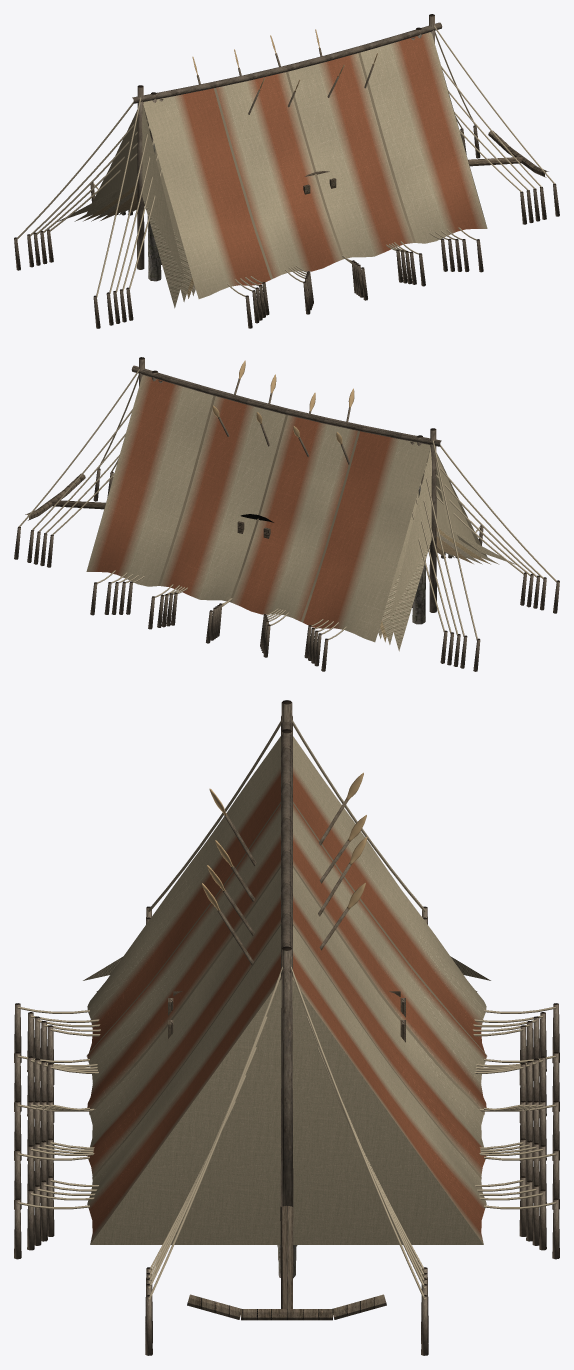
The model's file is camp_kit.glb.
3 renders of one model, top to bottom at view 1: azimuth 30°, elevation 25°; view 2: azimuth 150°, elevation 25°; view 3: azimuth 270°, elevation 25°, orthographic. The views are drawn at different scales.
Parts seen in each view (by area): view 1: tent_stripe, tent, tent_ochre, tent_grey, tent_hide, cart, palisade, spear_rack; view 2: tent_stripe, tent, tent_ochre, tent_grey, tent_hide, cart, spear_rack, palisade; view 3: tent_stripe, tent, tent_ochre, tent_grey, tent_hide, cart, spear_rack.
Boxes of the visible parts, bbox=[...] form: tent_stripe: bbox=[14, 14, 559, 328]; tent: bbox=[27, 27, 546, 325]; tent_ochre: bbox=[33, 37, 540, 323]; tent_grey: bbox=[40, 111, 533, 322]; tent_hide: bbox=[47, 130, 526, 320]; cart: bbox=[303, 130, 548, 194]; palisade: bbox=[147, 143, 161, 281]; spear_rack: bbox=[192, 29, 377, 114]; tent_stripe: bbox=[14, 357, 559, 671]; tent: bbox=[27, 370, 546, 668]; tent_ochre: bbox=[33, 380, 540, 666]; tent_grey: bbox=[40, 454, 533, 665]; tent_hide: bbox=[47, 473, 526, 663]; cart: bbox=[25, 473, 273, 538]; spear_rack: bbox=[212, 360, 354, 464]; palisade: bbox=[412, 484, 425, 624]; tent_stripe: bbox=[14, 700, 559, 1355]; tent: bbox=[27, 729, 546, 1343]; tent_ochre: bbox=[34, 923, 539, 1337]; tent_grey: bbox=[40, 1021, 533, 1332]; tent_hide: bbox=[47, 1025, 526, 1326]; cart: bbox=[168, 991, 405, 1320]; spear_rack: bbox=[202, 772, 367, 964].
Size of the model in its own units: 7.19 by 2.85 by 4.16.
7 materials, 5 textured.
